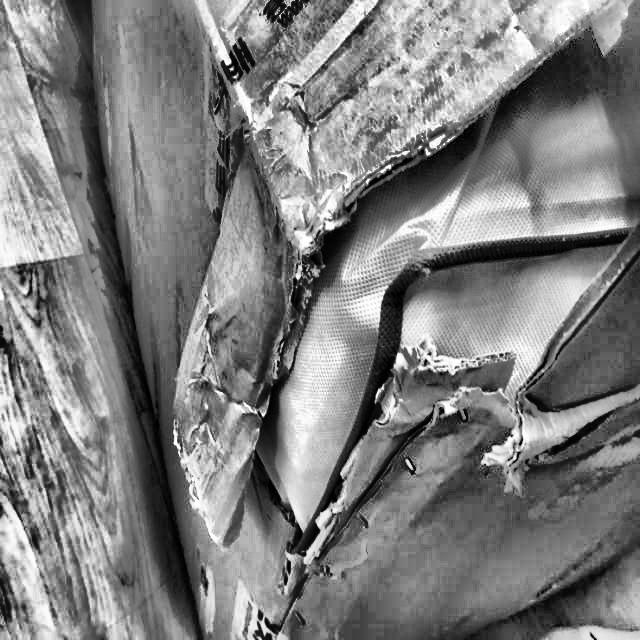box: (68, 0, 640, 640)
hole: (246, 252, 398, 565)
